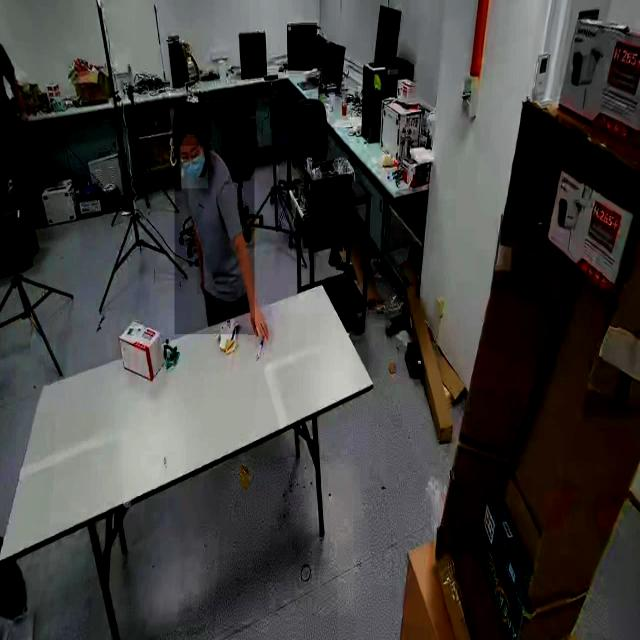face_mask: (180, 146, 208, 188)
hand_noglove: (248, 307, 270, 343), (10, 82, 28, 114), (197, 265, 205, 295)
head_nohelmet: (169, 93, 209, 137)
person: (175, 102, 255, 335)
